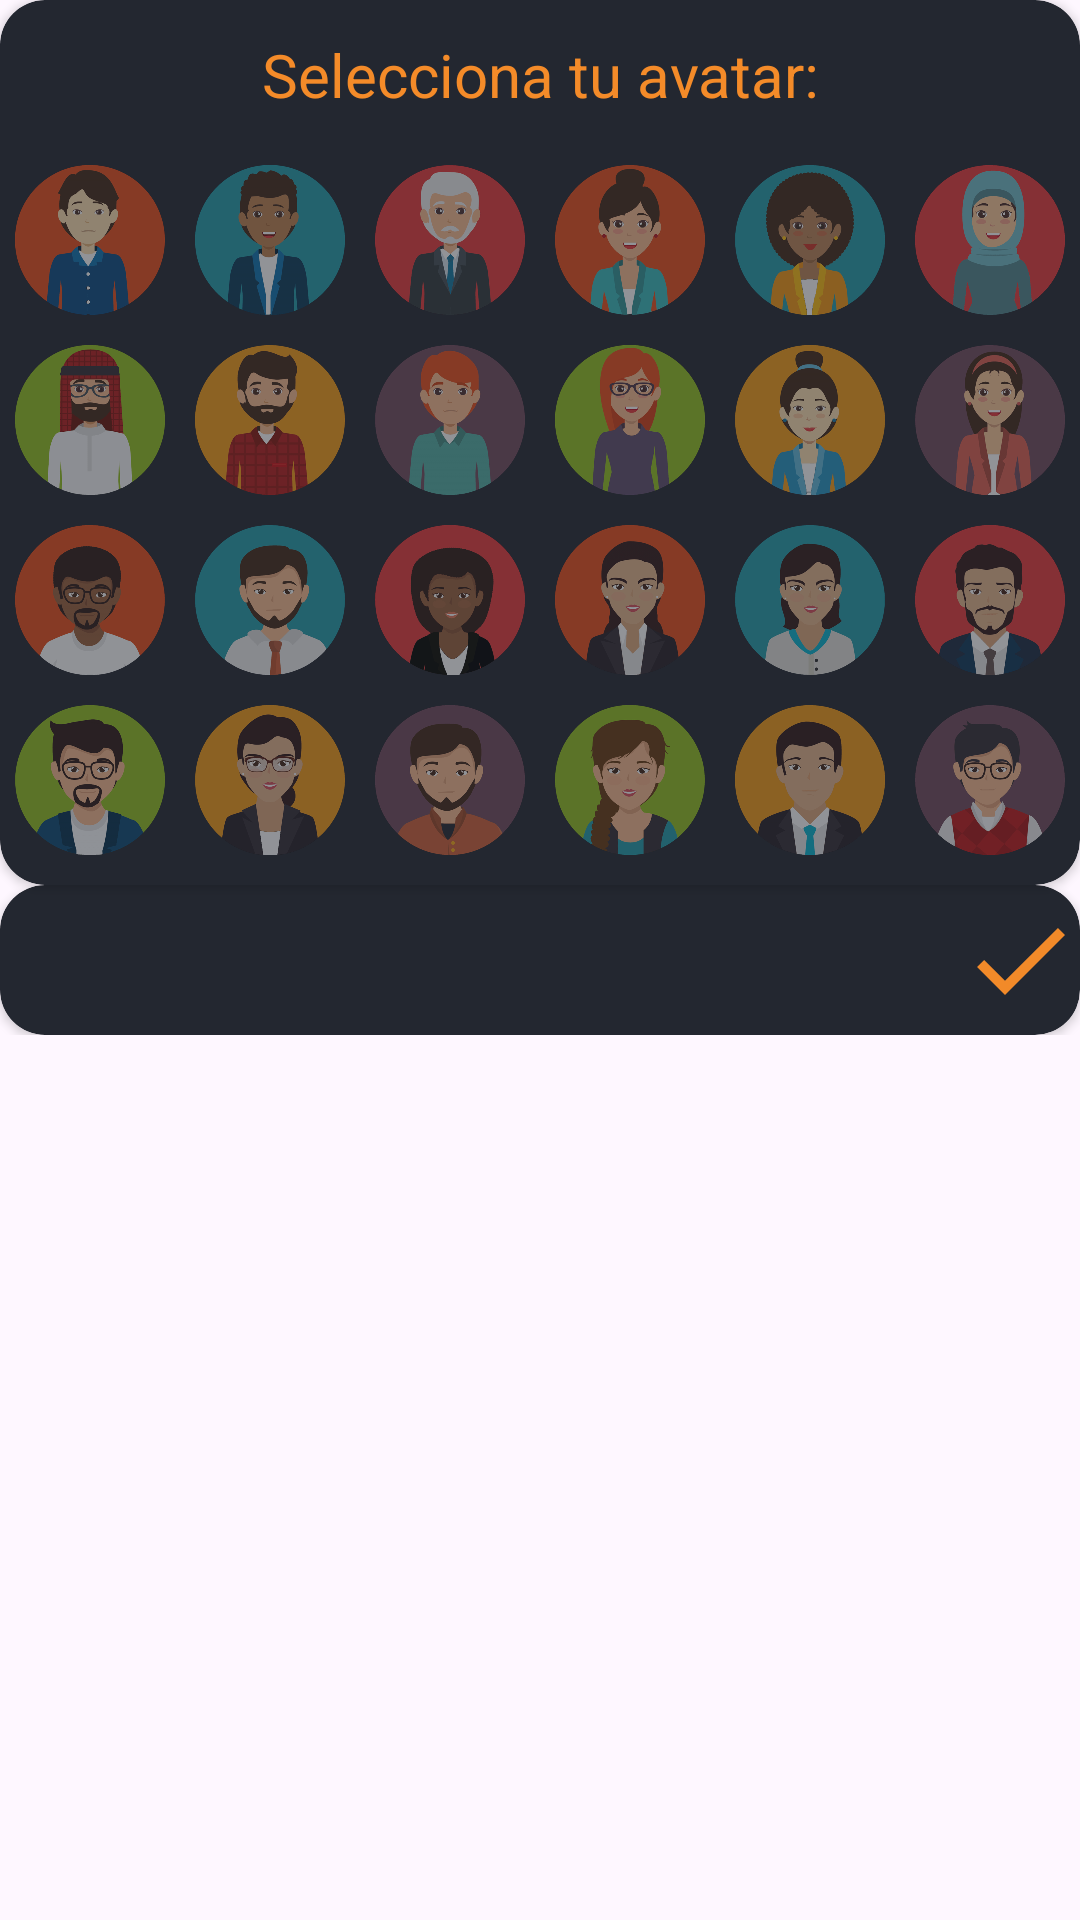

Icons on this 1080w x 1920h Android screen, each with its box as (x1, y1, x2, y2):
check: (977, 928, 1065, 995)
